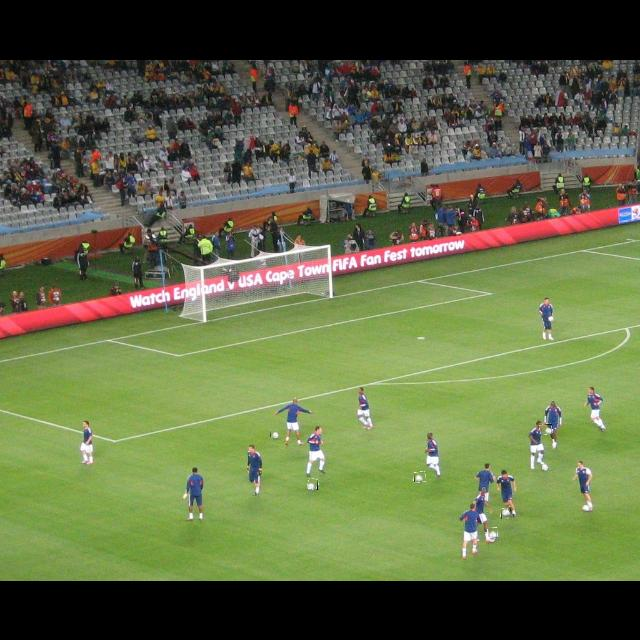Football: (308, 478, 318, 490), (414, 472, 426, 482), (540, 424, 552, 434), (488, 528, 498, 538), (501, 509, 509, 519), (270, 429, 278, 437)
